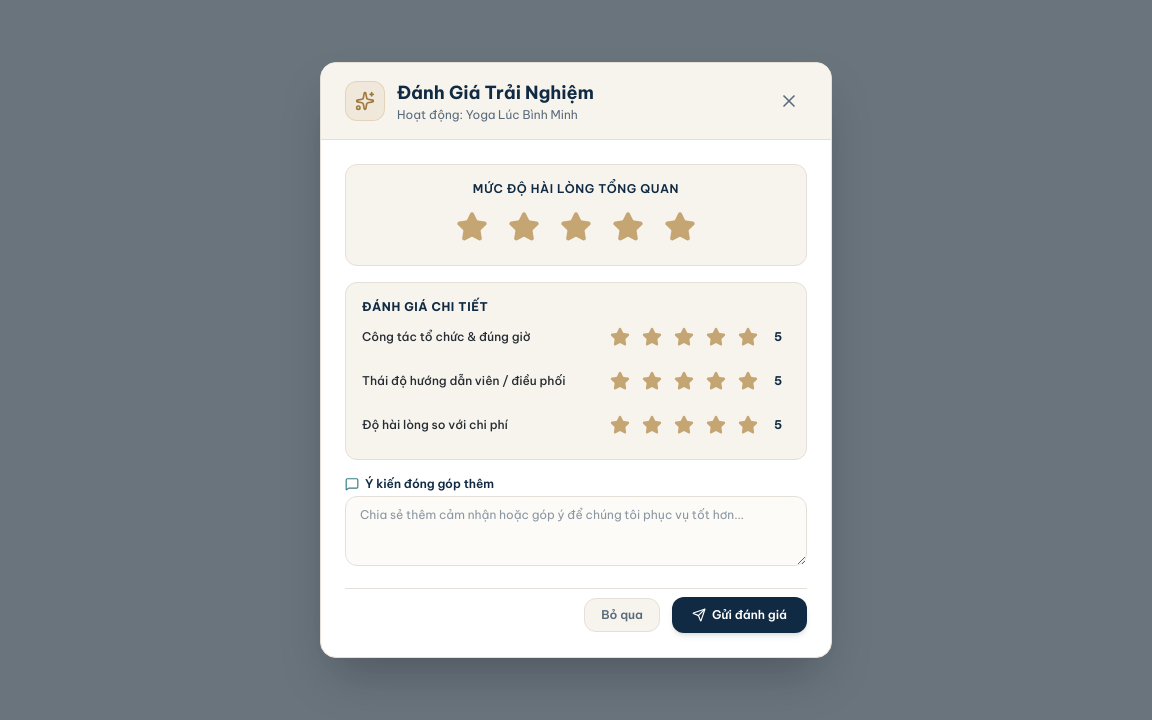
Test: ActivityFeedbackModal Component Tests (KAN-367 & KAN-368) › submits 5-star rating successfully and shows normal appreciation state
This screenshot has width=1152, height=720.
Replace the text in the text box with test id "feedback-comments-input" with "Dịch vụ rất tốt!" at (576, 531), box [345,496,807,566]
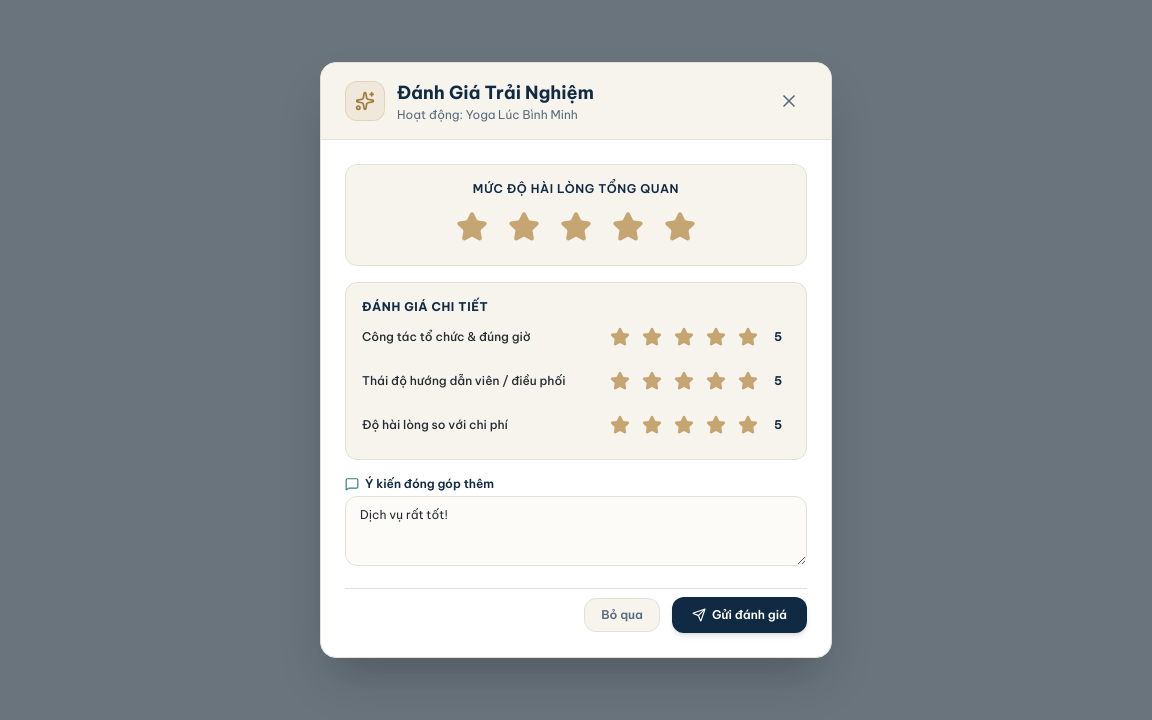
Click the button with test id "submit-feedback-button" at (739, 615), box [672,597,807,633]
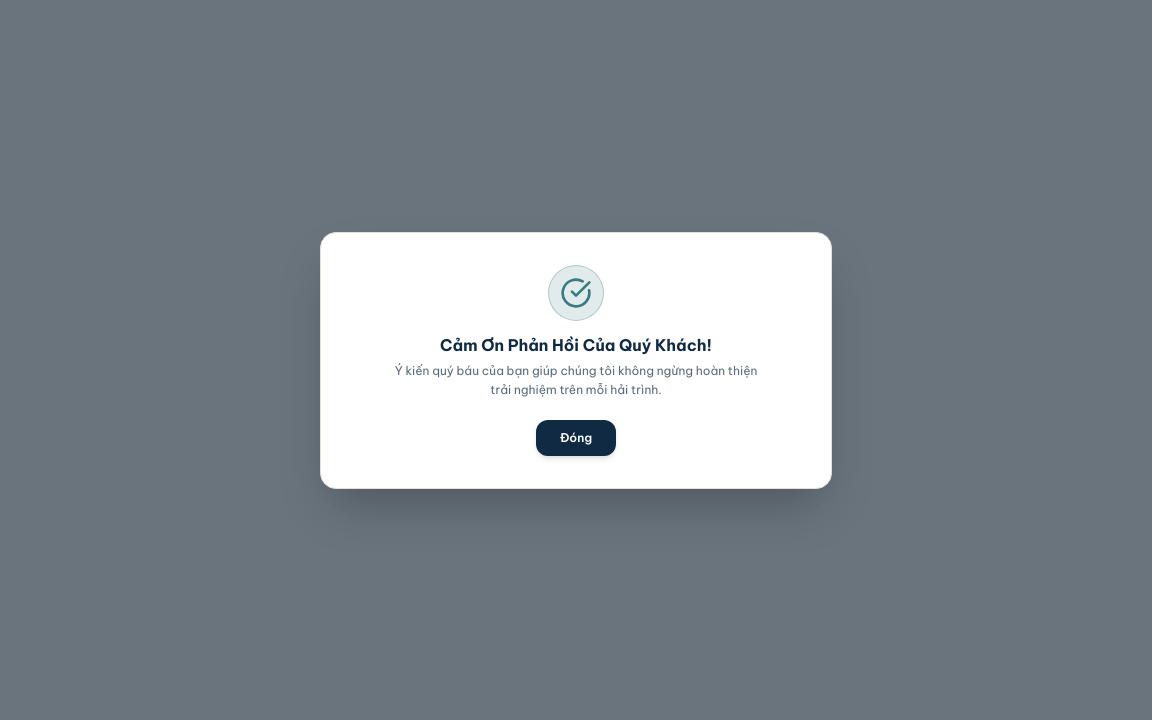
Expected: the element with test id "feedback-success-state" is shown, [395,264,757,456]
Expected: the heading "Cảm Ơn Phản Hồi Của Quý Khách!" is shown, [440,334,712,354]
